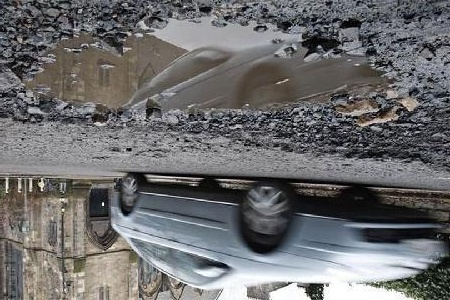pothole: (4, 11, 405, 142)
